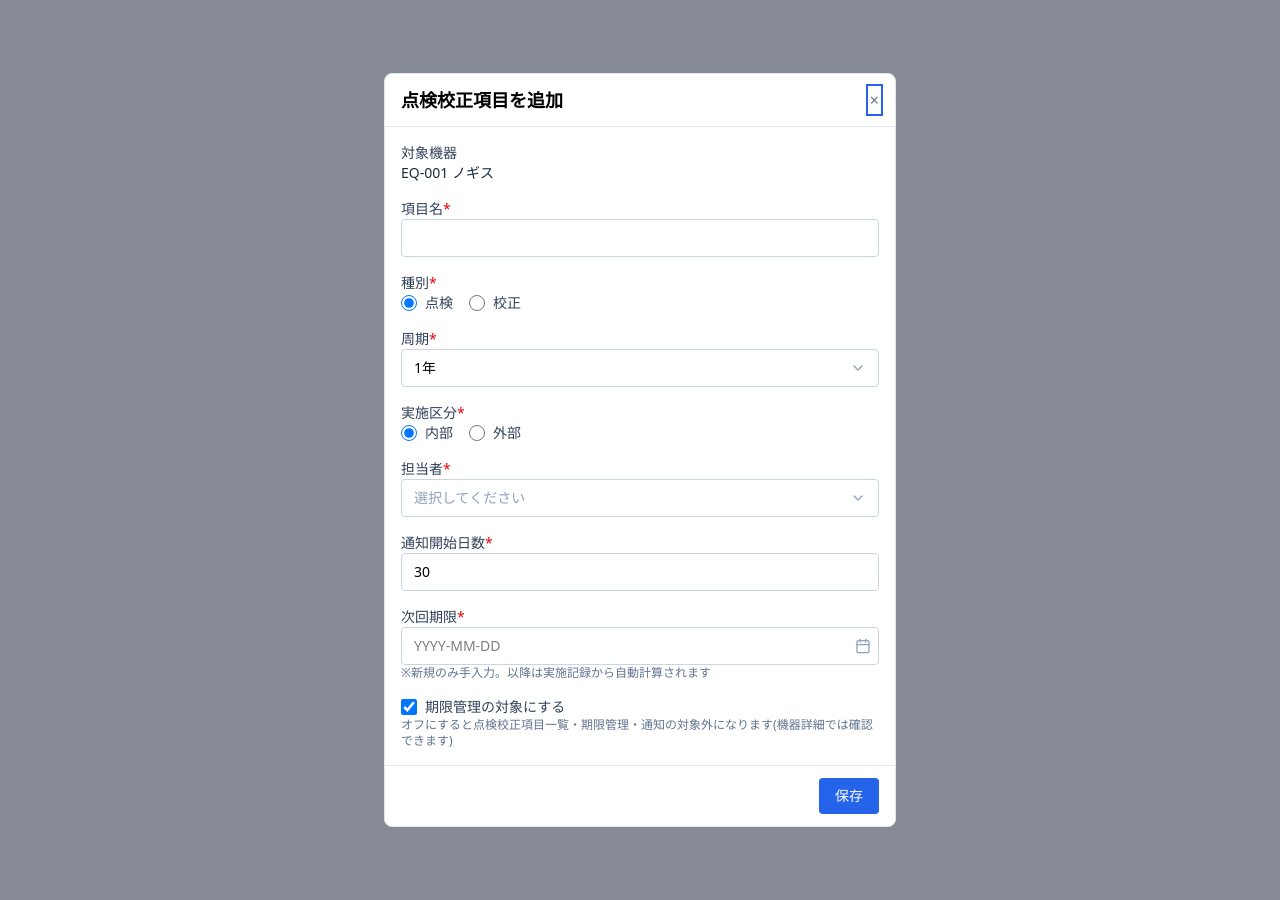
Test: ServiceItemModal: 新規追加 › 外部で校正依頼先未選択のまま保存するとエラーが表示される
The image size is (1280, 900).
Type "外部点検校正項目" into the field labelled "項目名" at (640, 238), box 401,219 -> 879,257
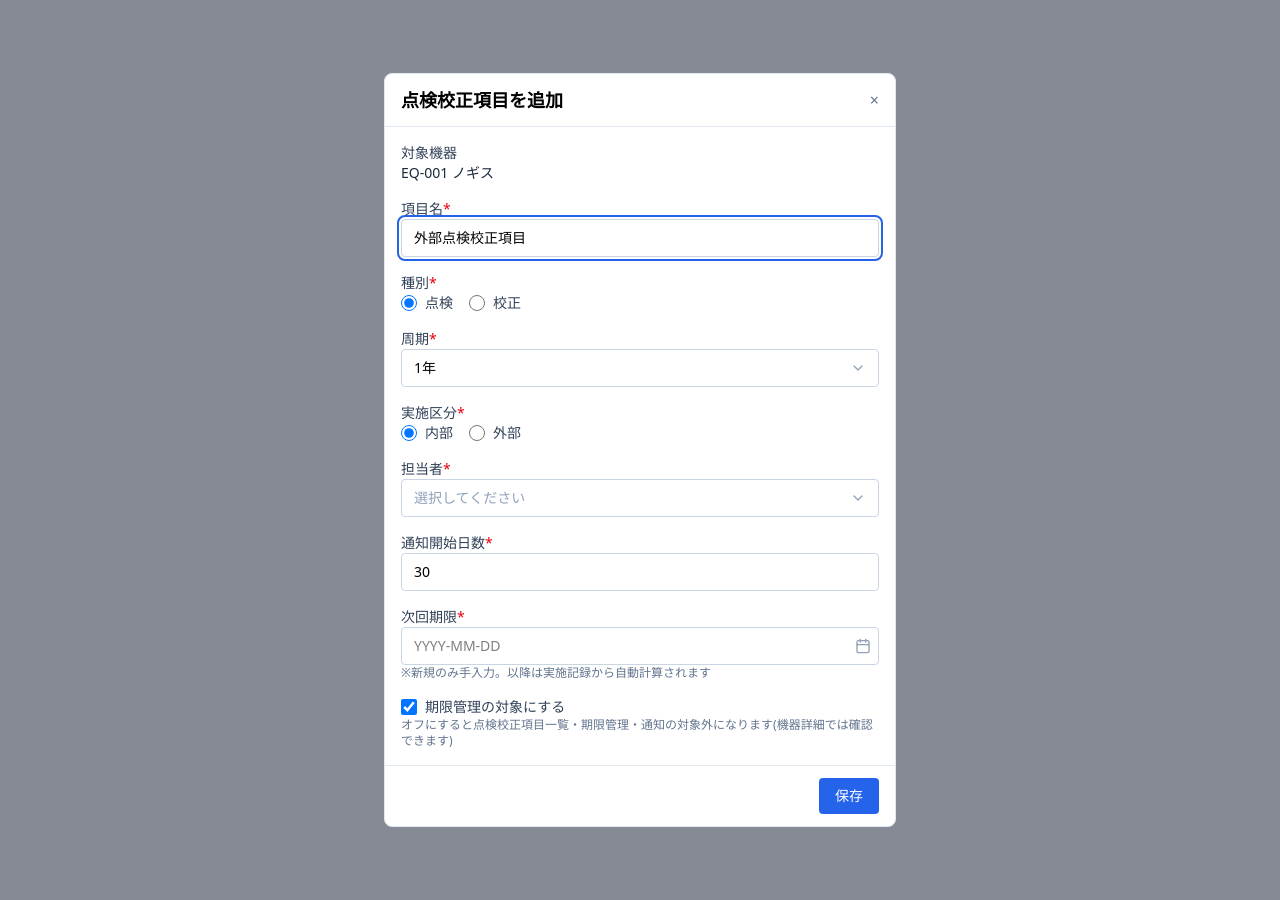
Click the radio button labelled "外部" at (477, 433), box 469,425 -> 485,441
(page scrolled)
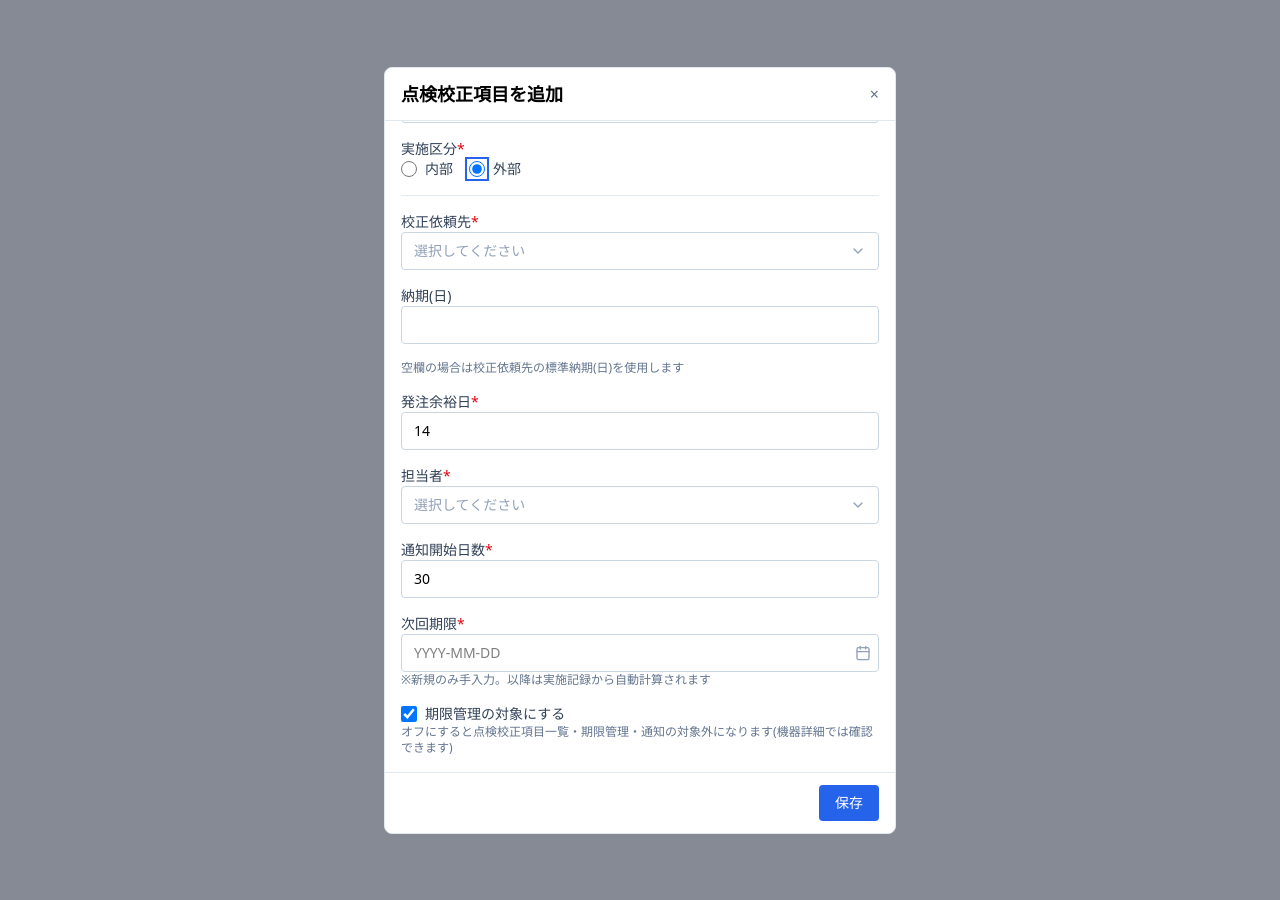
Type "2026-08-01" into the field labelled "次回期限" at (640, 652), box 401,634 -> 879,672
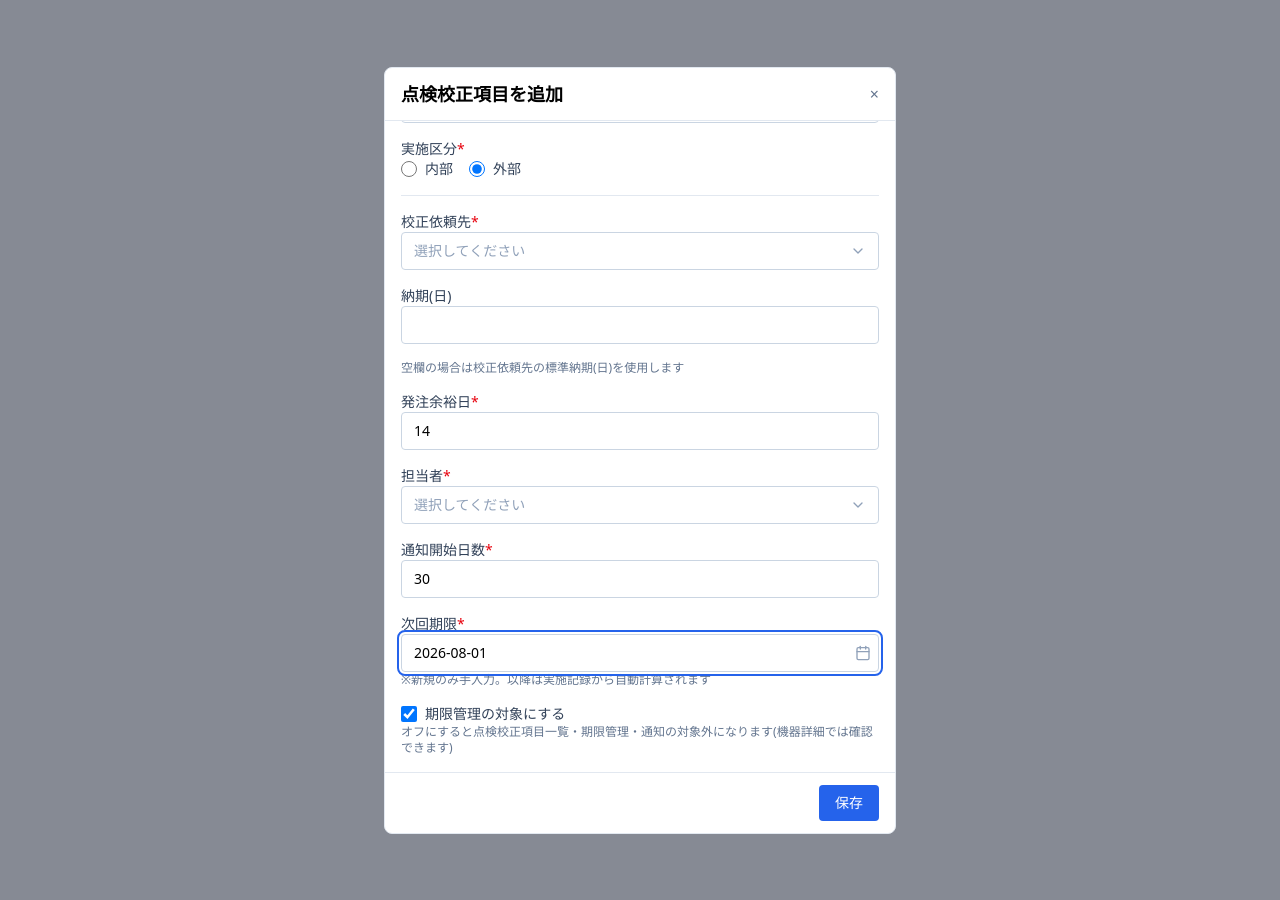
Click the button "保存" at (849, 802), box 819,784 -> 879,820
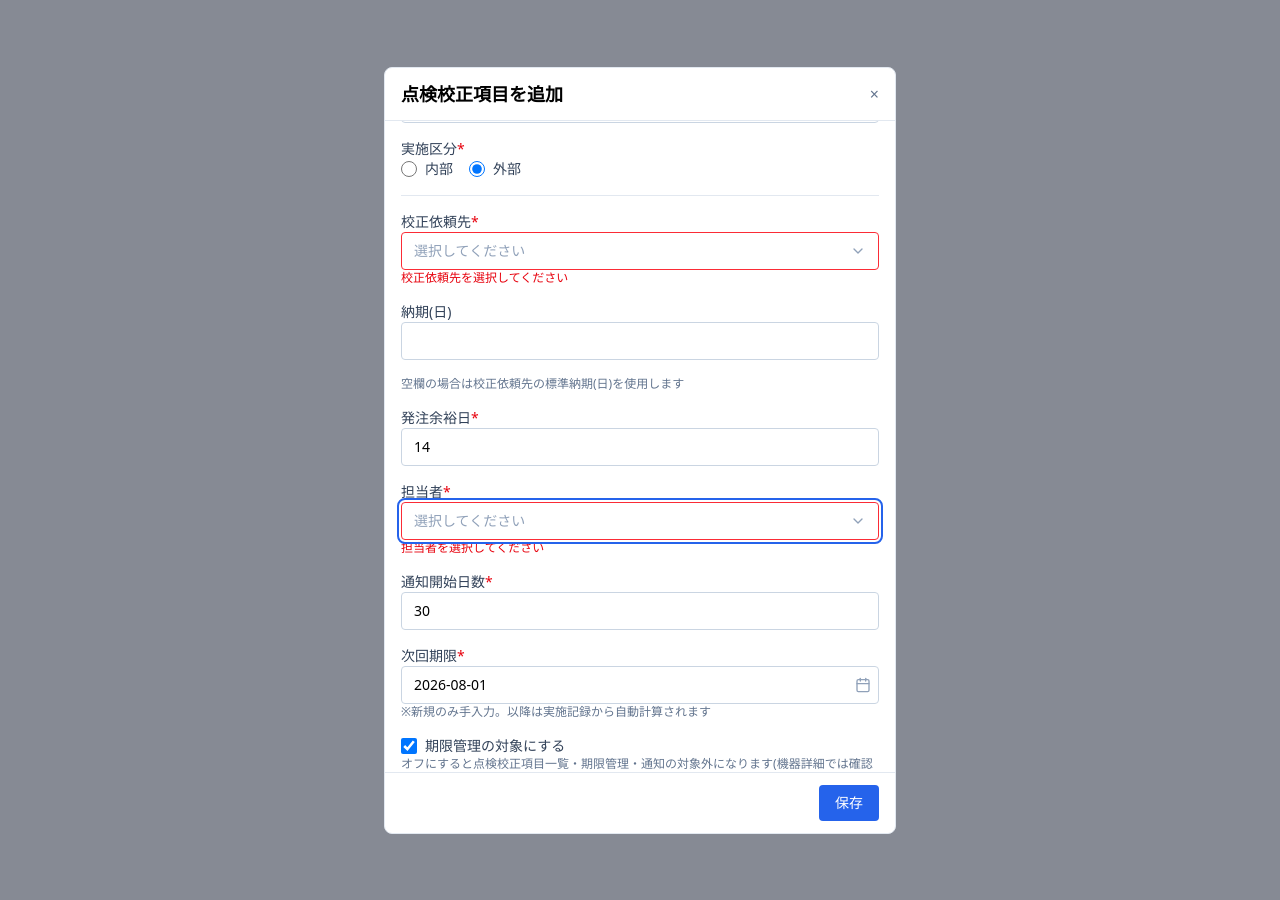
Check: the text "校正依頼先を選択してください" is shown, box 401,268 -> 568,286
